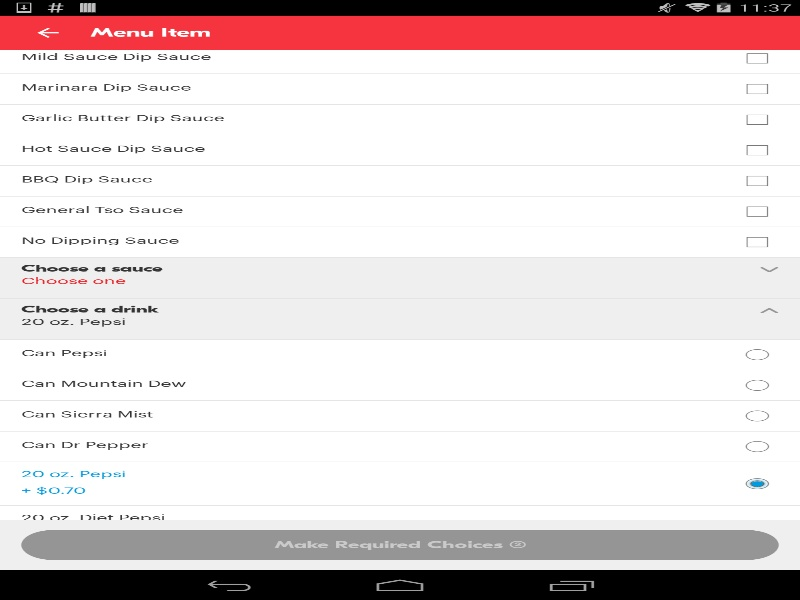Button: (21, 530, 778, 560), (10, 15, 85, 50)
Input: (21, 53, 637, 78)
